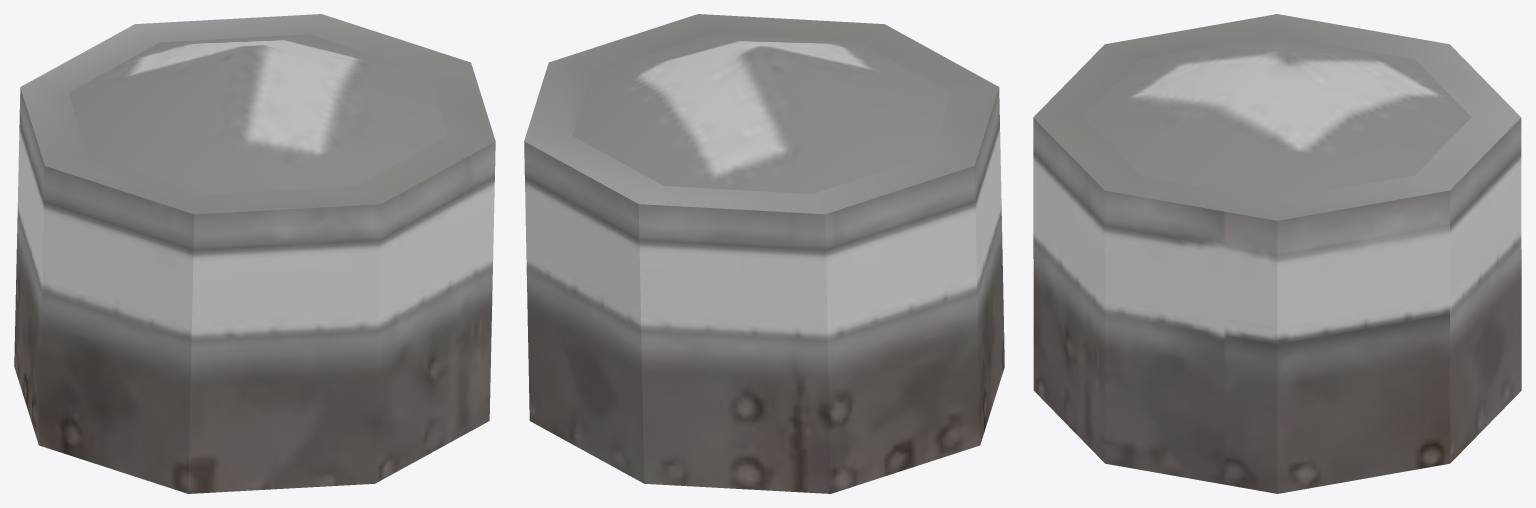
Rendered from pm-button.glb.
3 renders of one model, left to right at view 1: azimuth 30°, elevation 25°; view 2: azimuth 150°, elevation 25°; view 3: azimuth 270°, elevation 25°, orthographic.
Visible parts, largest first — view 1: Button; view 2: Button; view 3: Button.
Part boxes in pixels (x1=…): Button: x1=14, y1=14, x2=495, y2=493; Button: x1=524, y1=14, x2=1004, y2=493; Button: x1=1033, y1=14, x2=1521, y2=493.
Bounding box in the file's own units: 0.3681 × 0.2817 × 0.3635.
Materials: 1 (1 with a texture image).
